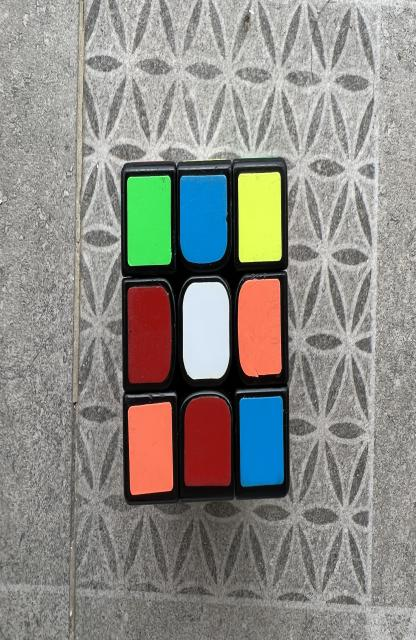Blue: (180, 175, 228, 263), (240, 397, 284, 487)
Green: (127, 175, 171, 267)
Orange: (238, 278, 282, 377), (128, 402, 173, 495)
Red: (184, 397, 231, 487), (128, 287, 171, 383)
White: (183, 282, 230, 380)
Yellow: (238, 172, 282, 262)
